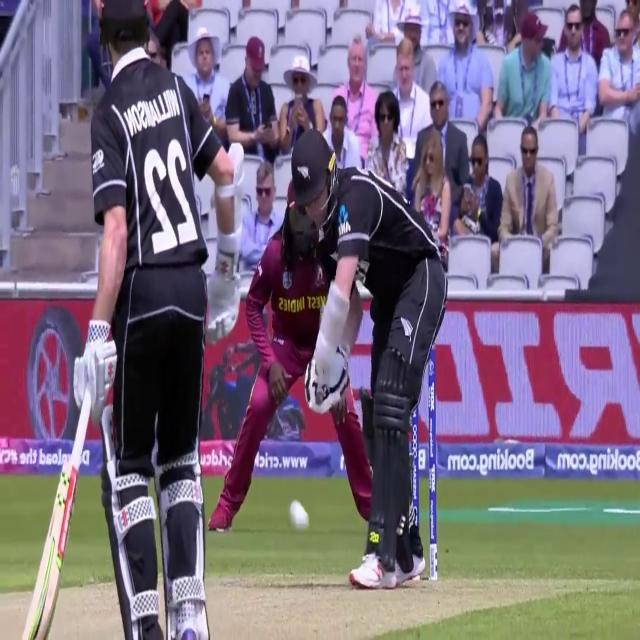ball: (281, 489, 313, 538)
